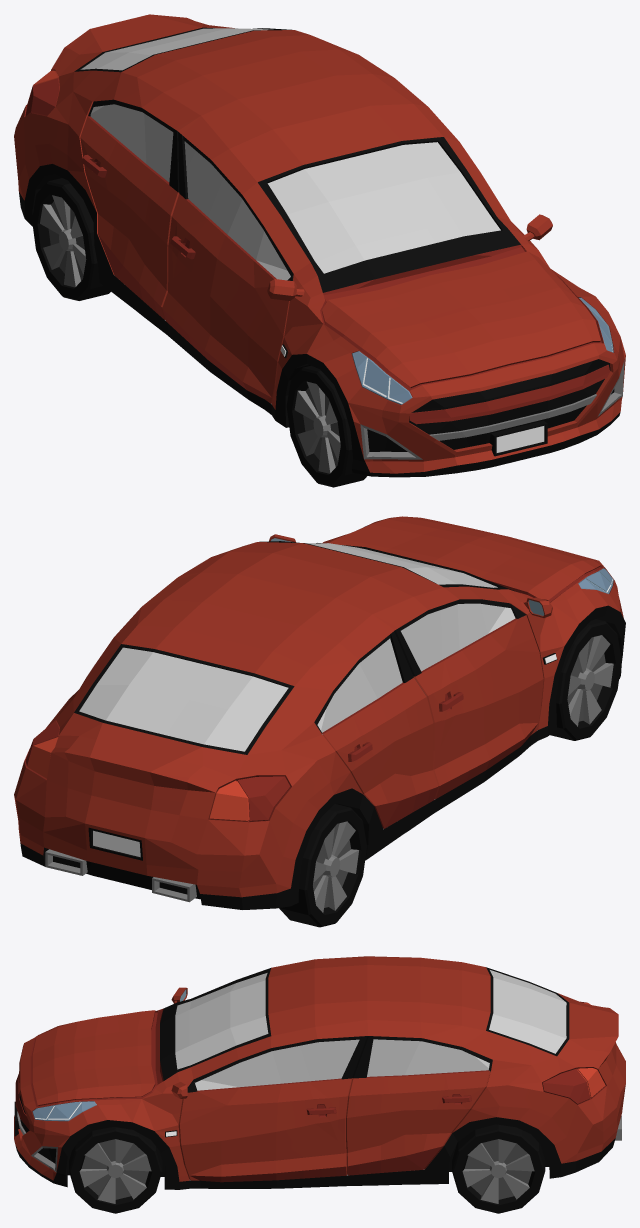
Rendered from Vehicle_SedanCar01_Static.fbx.
3 renders of one model, top to bottom at view 1: azimuth 30°, elevation 25°; view 2: azimuth 150°, elevation 25°; view 3: azimuth 270°, elevation 25°, orthographic. The views are drawn at different scales.
Visible parts, largest first — view 1: Vehicle_Sedancar01; view 2: Vehicle_Sedancar01; view 3: Vehicle_Sedancar01.
Boxes of the visible parts, x1,y1,x2,y2 form: Vehicle_Sedancar01: [14, 14, 625, 487]; Vehicle_Sedancar01: [14, 516, 625, 927]; Vehicle_Sedancar01: [14, 956, 625, 1213].
Size of what is drawn, in the model's own units: 186 by 460 by 150.
